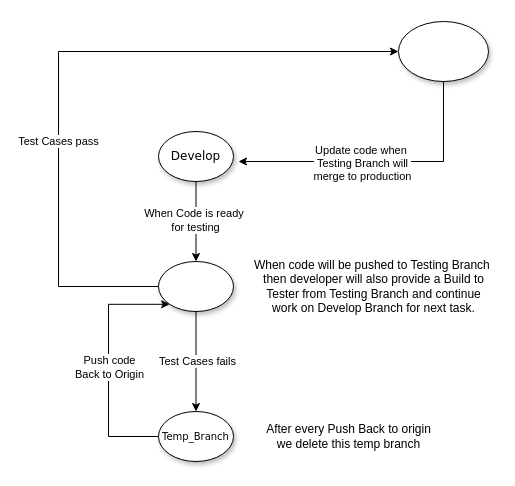
This 515x486 diagram has some shape labels left out. Each missing label, with the centre of its shape:
"Production" goes at point 444,52.
"Testing" goes at point 197,287.
